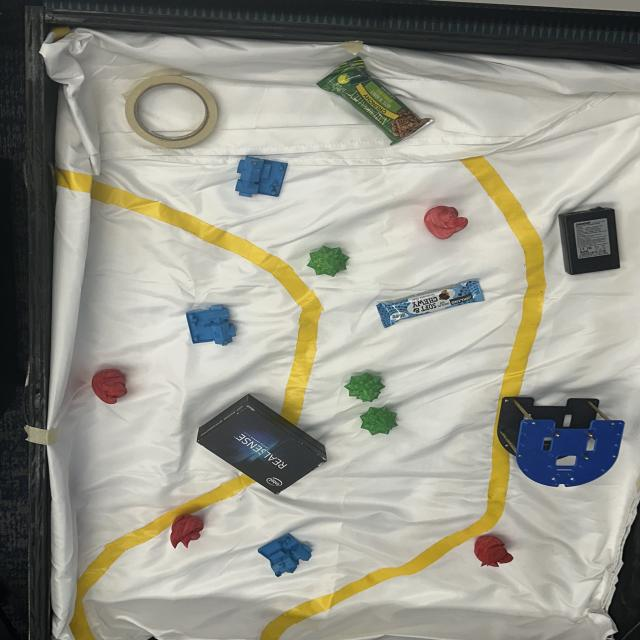fire: (423, 205, 469, 240), (475, 536, 515, 568), (92, 370, 126, 406), (170, 514, 204, 548)
house: (258, 533, 315, 578), (234, 156, 290, 198), (186, 305, 237, 347)
tree: (308, 245, 350, 277), (344, 372, 386, 402), (360, 406, 398, 436)
